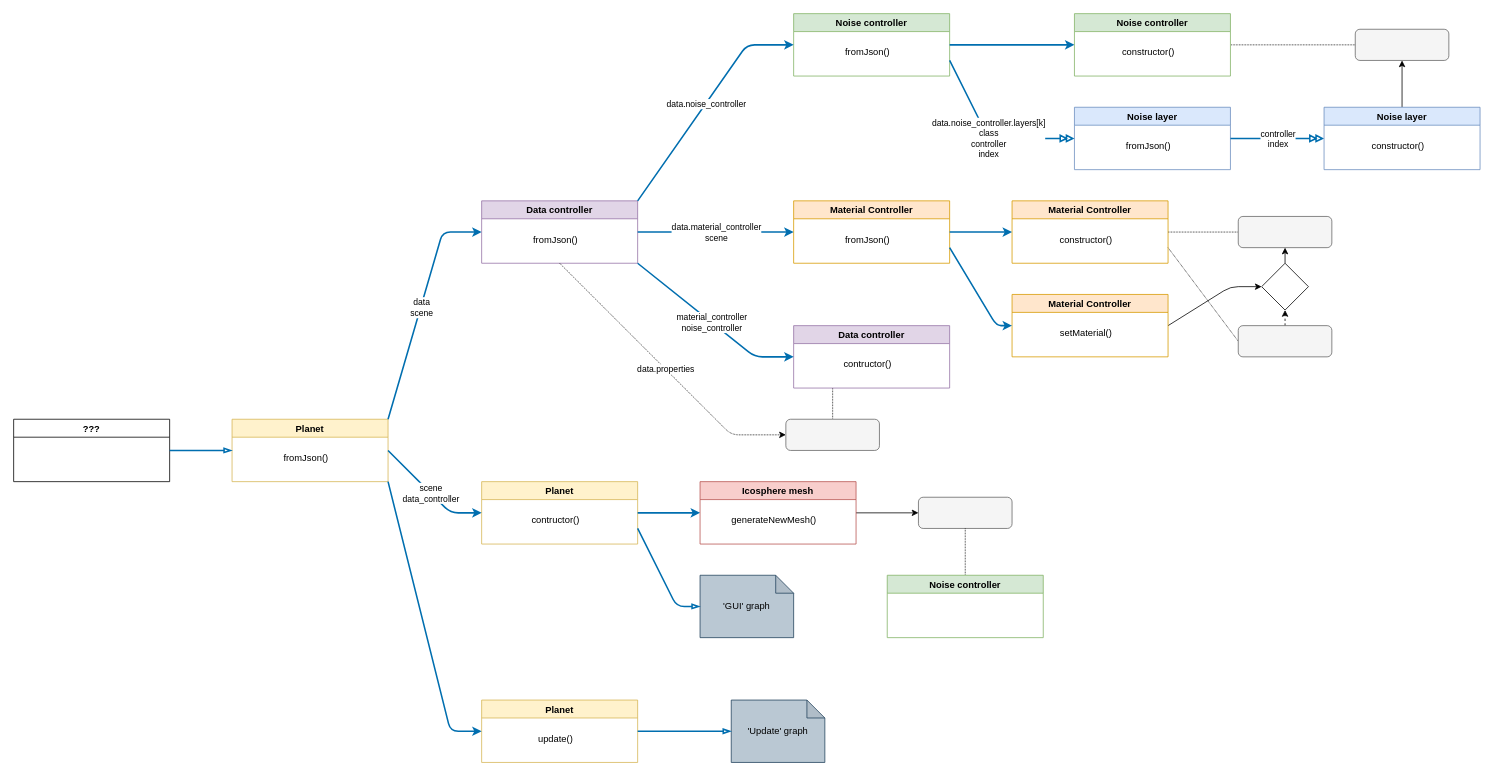
Image size: 1494x776. Some labels were removed from this diagram. The shapes that lost their labels are listed below. From the top down, each one's centre as x and y in pixels, then its label:
At [1401,44]: "noiseLayers".
At [1284,232]: "Material".
At [1284,286]: "creates".
At [1284,341]: "src".
At [832,434]: "properties".
At [965,512]: "gpuSpecs".
